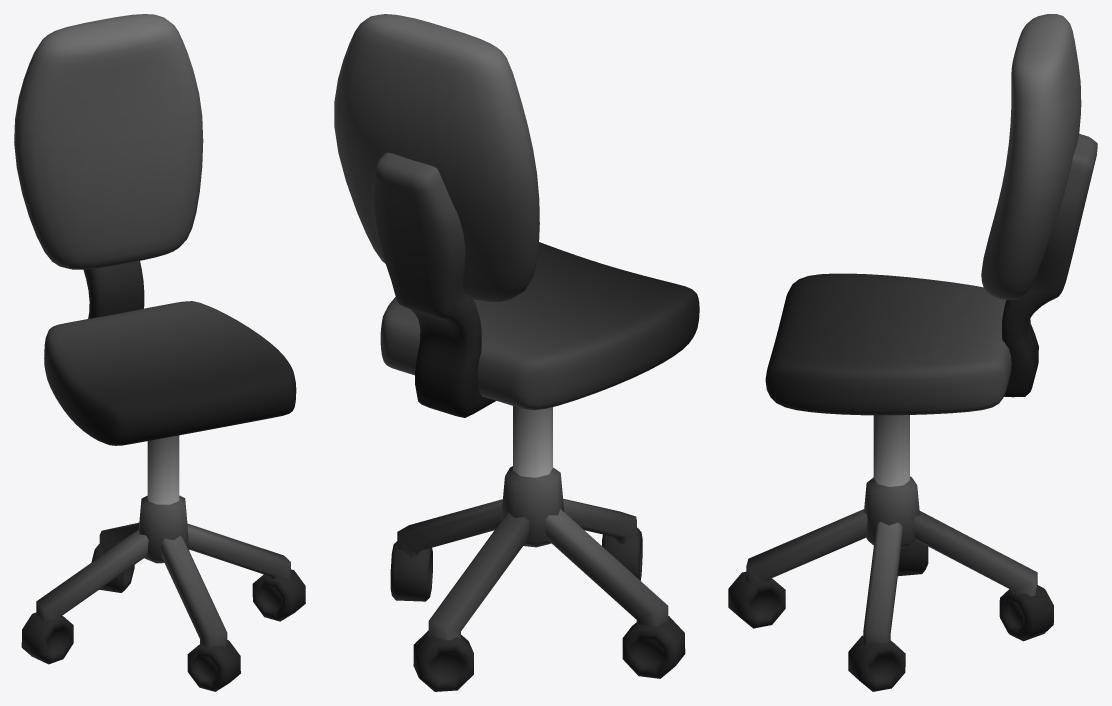
The model's file is chair_003.fbx.
3 renders of one model, left to right at view 1: azimuth 30°, elevation 25°; view 2: azimuth 150°, elevation 25°; view 3: azimuth 270°, elevation 25°, orthographic. The views are drawn at different scales.
Visible parts, largest first — view 1: chair_003; view 2: chair_003; view 3: chair_003.
Boxes of the visible parts, x1,y1,x2,y2 form: chair_003: [14, 14, 305, 691]; chair_003: [334, 14, 699, 691]; chair_003: [728, 14, 1097, 691].
Size of the model in its own units: 47.15 by 96.67 by 54.06.
